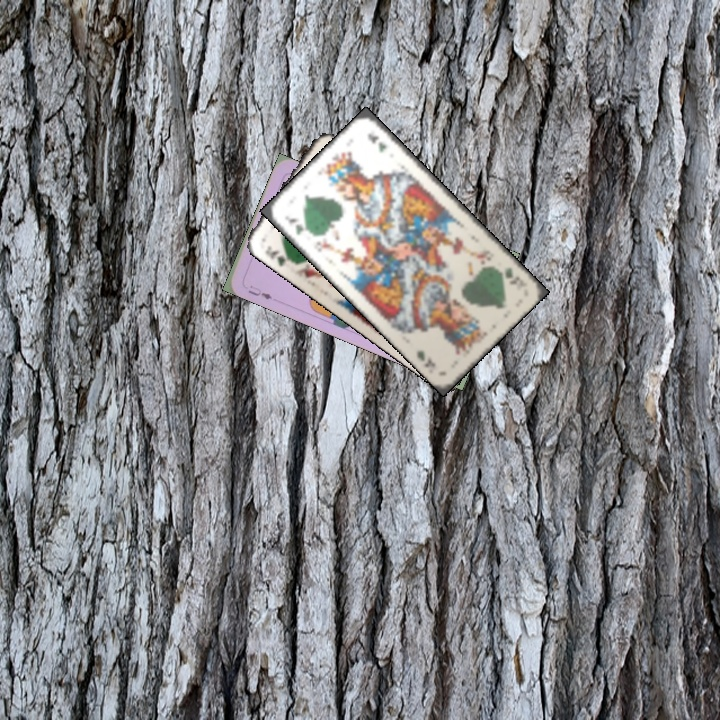EU: (240, 280, 275, 302)
GK: (261, 241, 294, 269), (281, 211, 314, 237), (493, 263, 516, 281)
